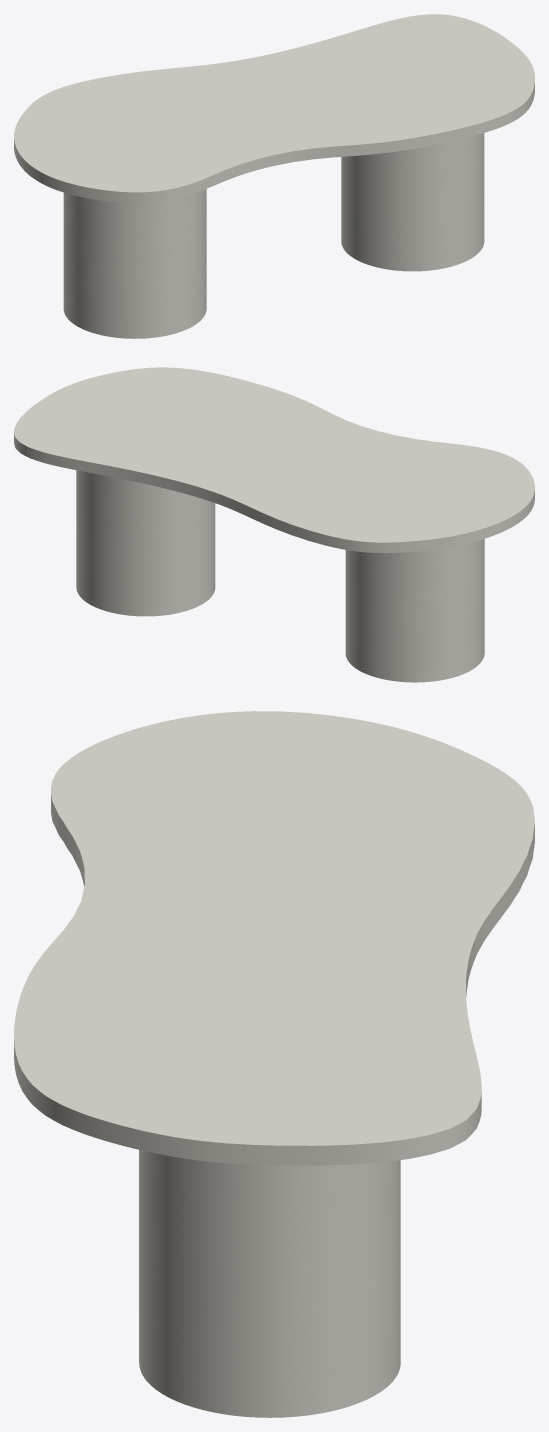
Rendered from pale_wave_standard_stream.glb.
The picture shows the model from 3 angles, top to bottom: view 1: azimuth 30°, elevation 25°; view 2: azimuth 150°, elevation 25°; view 3: azimuth 270°, elevation 25°; orthographic projection. The views are drawn at different scales.
Parts seen in each view (by area): view 1: standard_wave, stream; view 2: standard_wave, stream; view 3: standard_wave, stream.
Part boxes in pixels (box(x1,y1,x2,y2)): standard_wave: box(14, 14, 534, 203); stream: box(63, 133, 484, 338); standard_wave: box(14, 367, 534, 553); stream: box(76, 470, 484, 682); standard_wave: box(14, 711, 534, 1165); stream: box(139, 1150, 400, 1417).
Size of the model in its own units: 7.5 by 2.49 by 3.8.
Materials: 1 (1 with a texture image).
